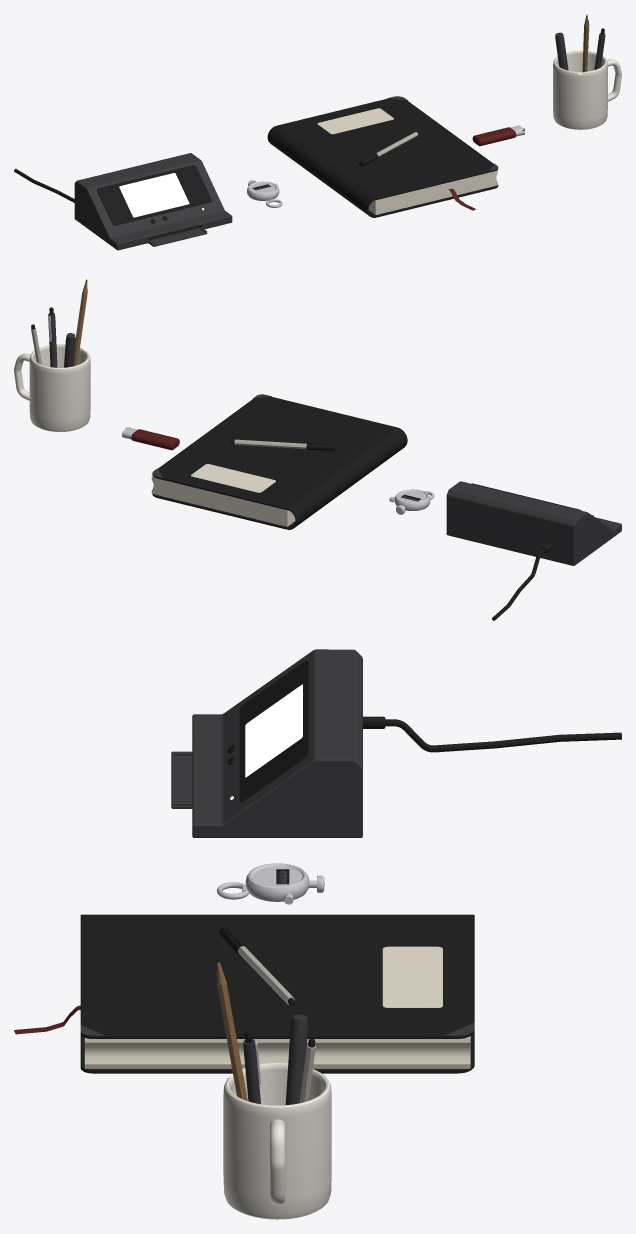
File: ledge_props.glb
3 views of the same model, one above another, from view 1: azimuth 30°, elevation 25°; view 2: azimuth 150°, elevation 25°; view 3: azimuth 270°, elevation 25° (orthographic). The views are drawn at different scales.
Visible parts, largest first — view 1: book, scanner, mug, clicker, lighter; view 2: book, scanner, mug, clicker, lighter; view 3: book, scanner, mug, clicker.
Part boxes in pixels (x1,y1,x2,y2): book: (267,96,498,217); scanner: (14,153,232,250); mug: (553,15,621,129); clicker: (247,179,282,207); lighter: (472,125,524,146); book: (151,394,407,529); scanner: (446,481,621,620); mug: (14,279,90,431); clicker: (389,489,434,514); lighter: (121,427,179,450); book: (14,914,474,1073); scanner: (171,649,621,837); mug: (216,957,331,1219); clicker: (217,863,324,904).
Size of the model in its own units: 0.911 by 0.1958 by 0.4629.
